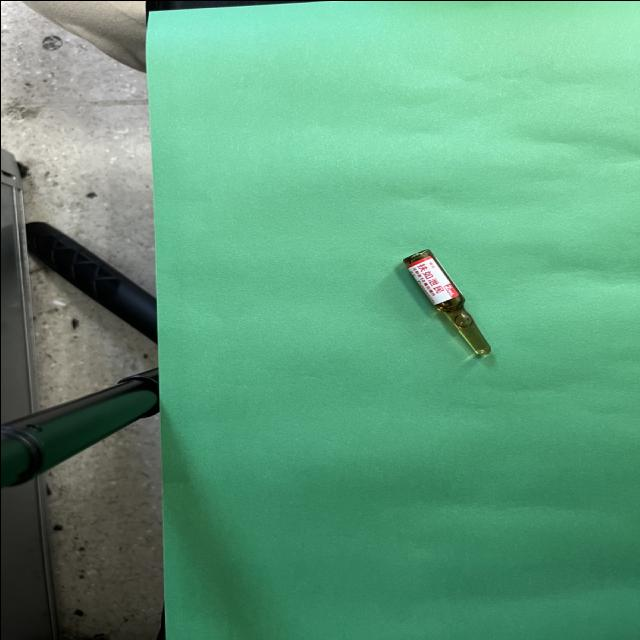Ampoules: (403, 248, 489, 355)
